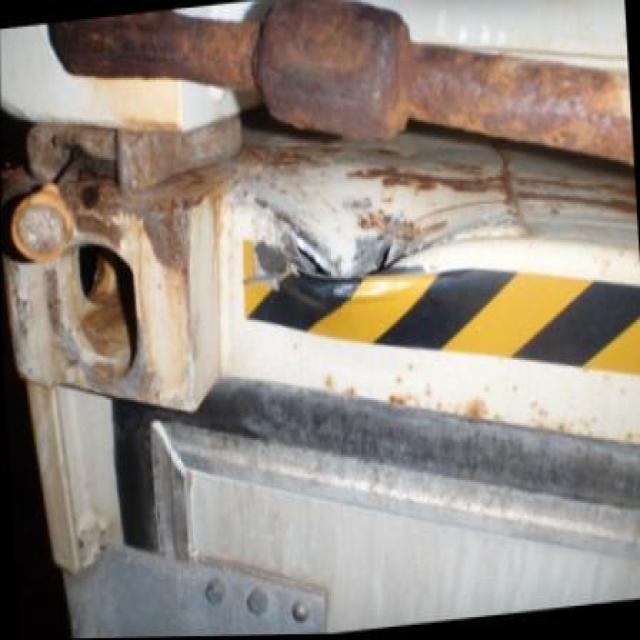hole: (247, 175, 446, 328)
